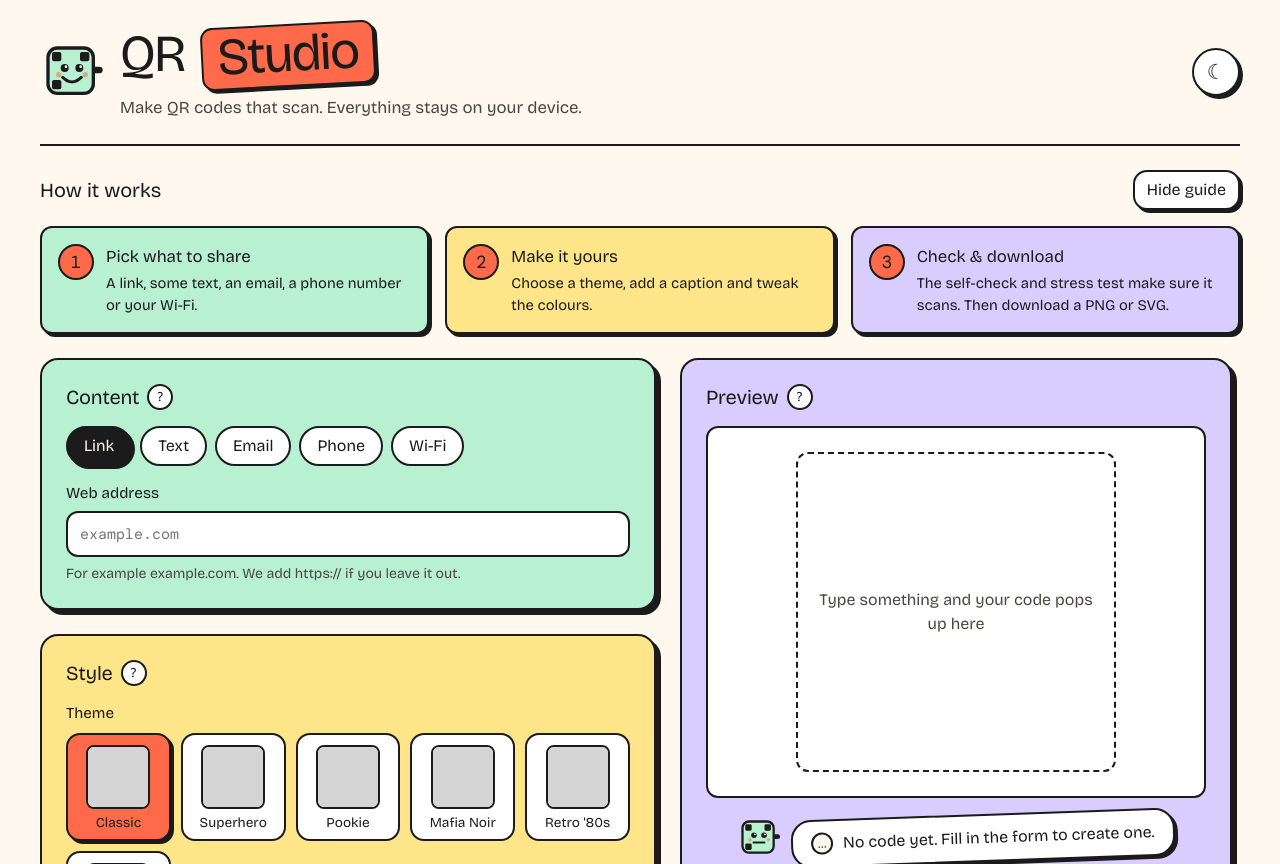
guide › explains each section from its "?" button
Step 1. Click the button named "What is Preview?" → [800, 397], box [786,384,812,410]
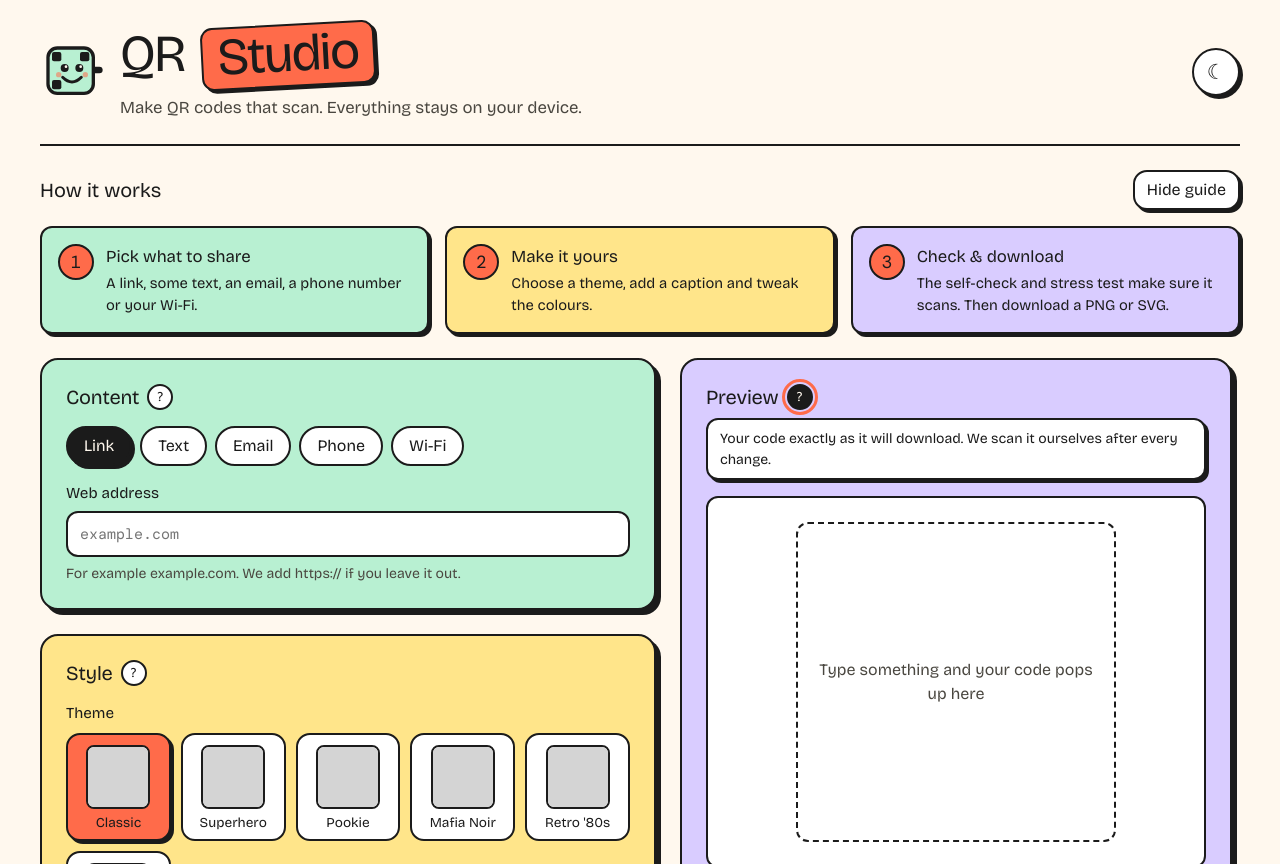
Check: the heading "Preview" is shown, box [706,385,778,409]
Check: the button named "What is Preview?" is expanded, box [786,384,812,410]
Check: the text "exactly as it will download" is shown, box [720,430,1178,468]
